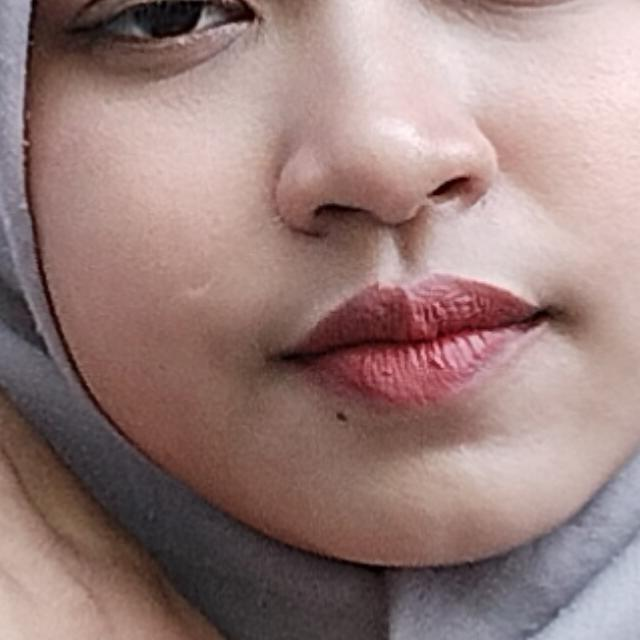tidur: (0, 188, 506, 640)
